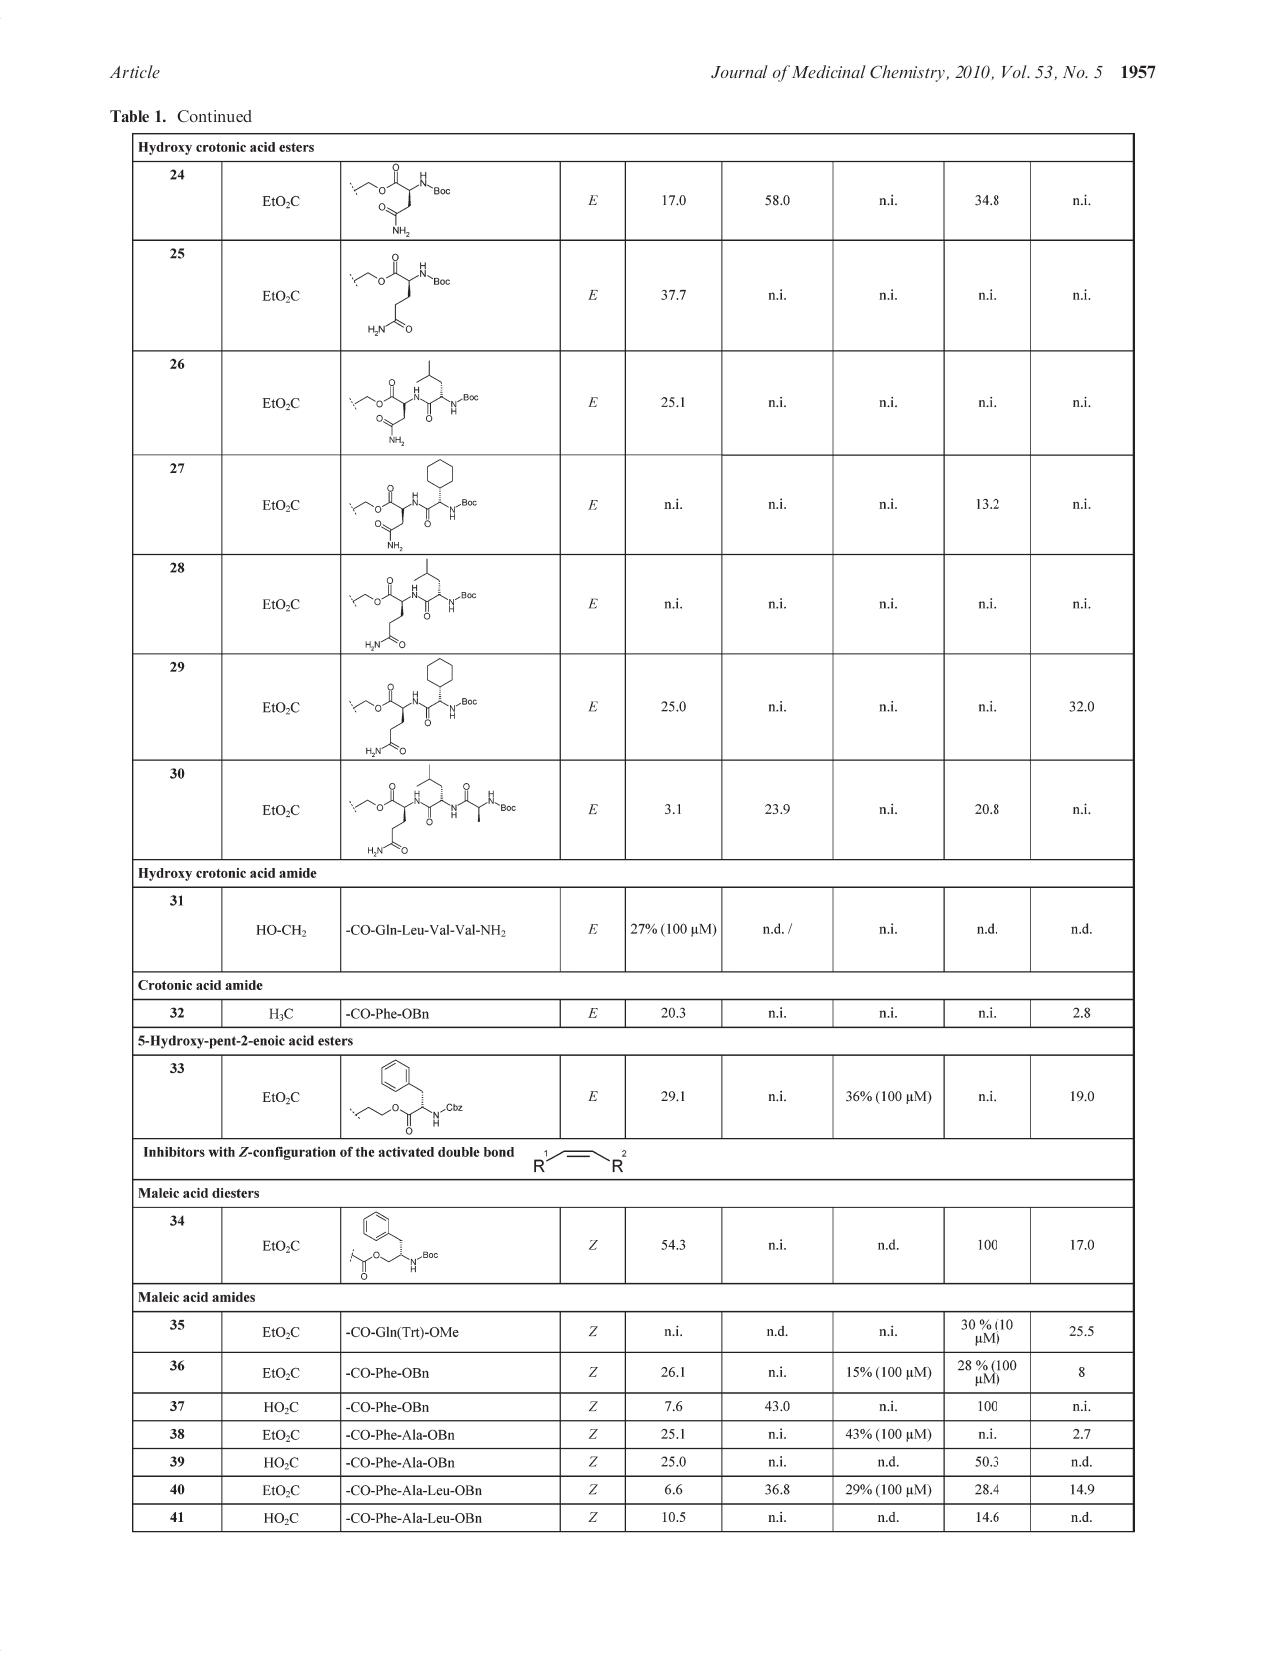exist_molecular: (348, 763, 519, 856), (347, 656, 477, 757), (347, 457, 480, 551), (347, 559, 479, 650), (348, 356, 480, 447), (348, 1059, 464, 1136), (348, 251, 451, 336), (348, 161, 451, 238), (348, 1210, 439, 1281), (531, 1146, 634, 1174)
